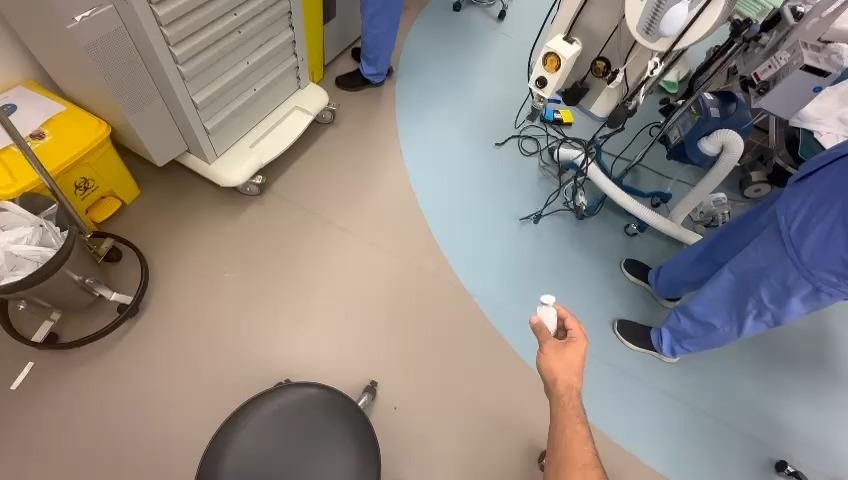augmentin: (537, 295, 558, 334)
